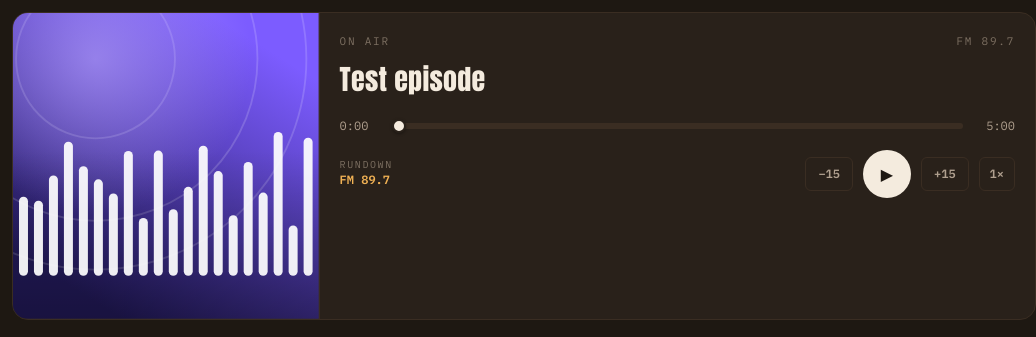
AudioPlayer › cycles playback speed through the rate ladder and wraps
Step 1. Click the button named "playback speed" → (997, 174), box top-left (979, 156), bottom-right (1015, 190)
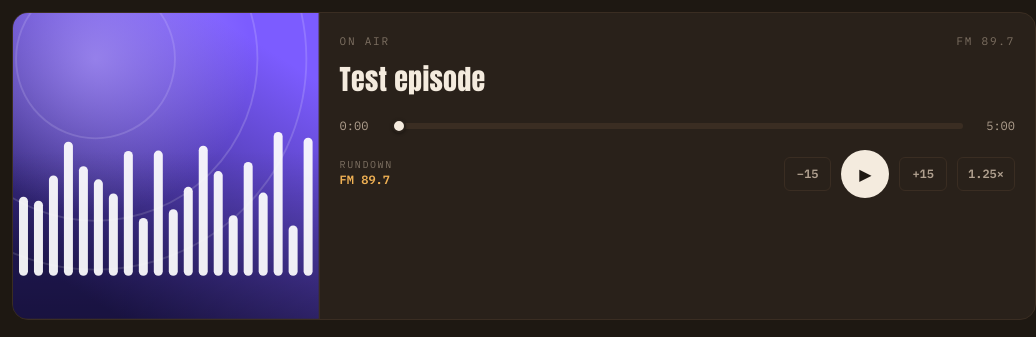
Expected: the button named "playback speed" reads "1.25×"
Step 2. Click the button named "playback speed" → (986, 174), box top-left (957, 156), bottom-right (1015, 190)
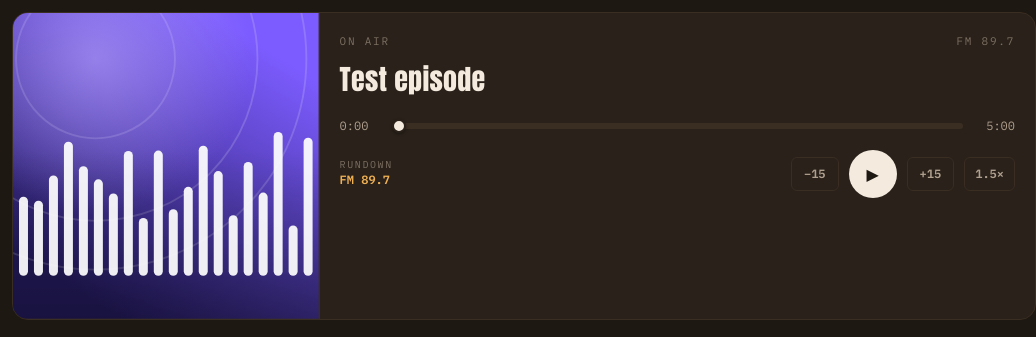
Expected: the button named "playback speed" reads "1.5×"
Step 3. Click the button named "playback speed" → (990, 174), box top-left (964, 156), bottom-right (1015, 190)
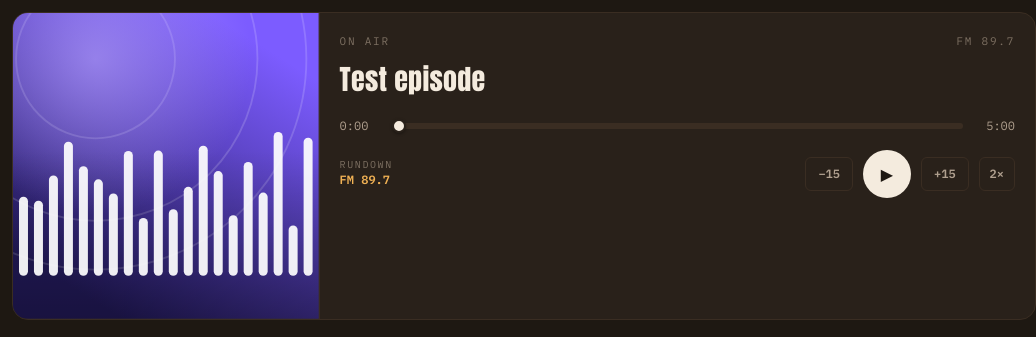
Step 4. Click the button named "playback speed" → (997, 174), box top-left (979, 156), bottom-right (1015, 190)
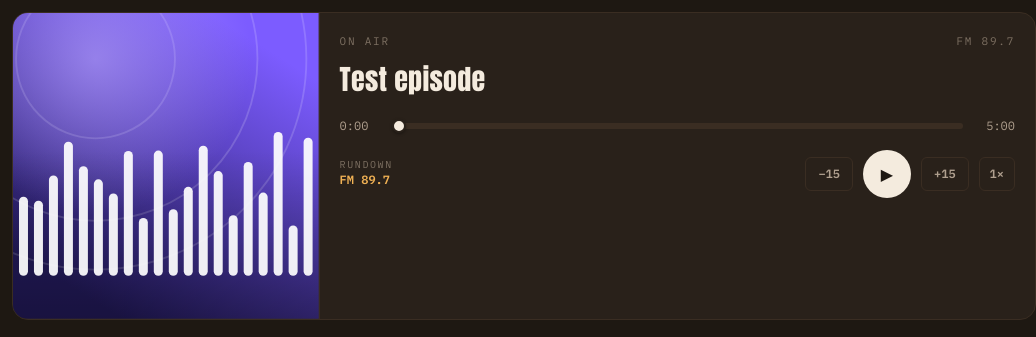
Expected: the button named "playback speed" reads "1×", top-left (979, 156), bottom-right (1015, 190)
